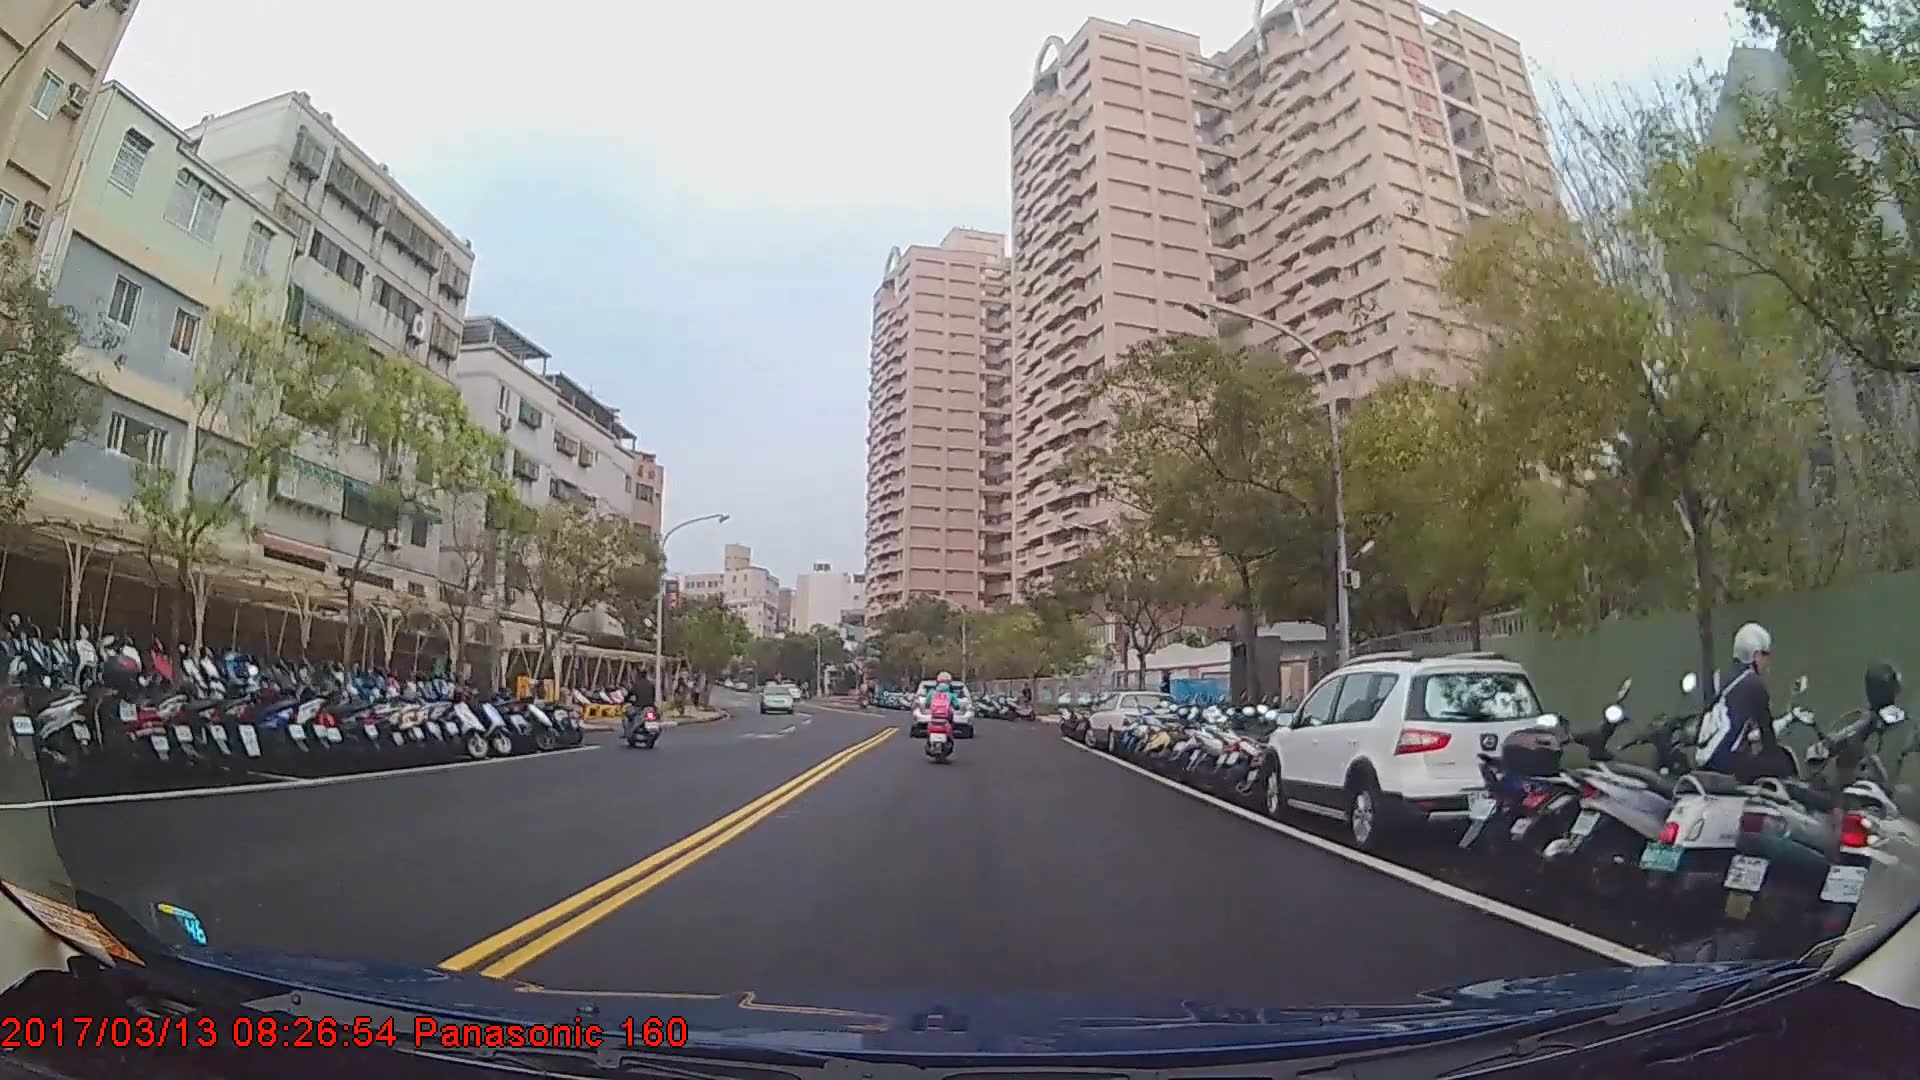rider: (923, 667, 963, 767), (622, 664, 659, 751)
vehicle: (1258, 653, 1559, 845), (1083, 688, 1177, 756), (907, 676, 972, 733), (757, 681, 796, 711)
